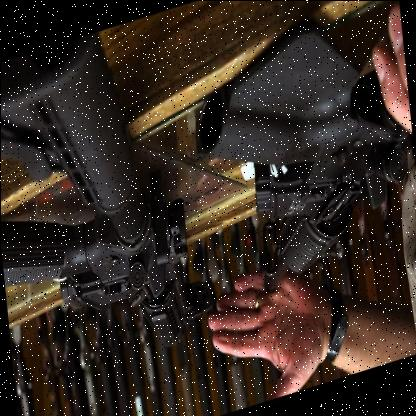rifle: (0, 6, 213, 394), (238, 76, 416, 308)
